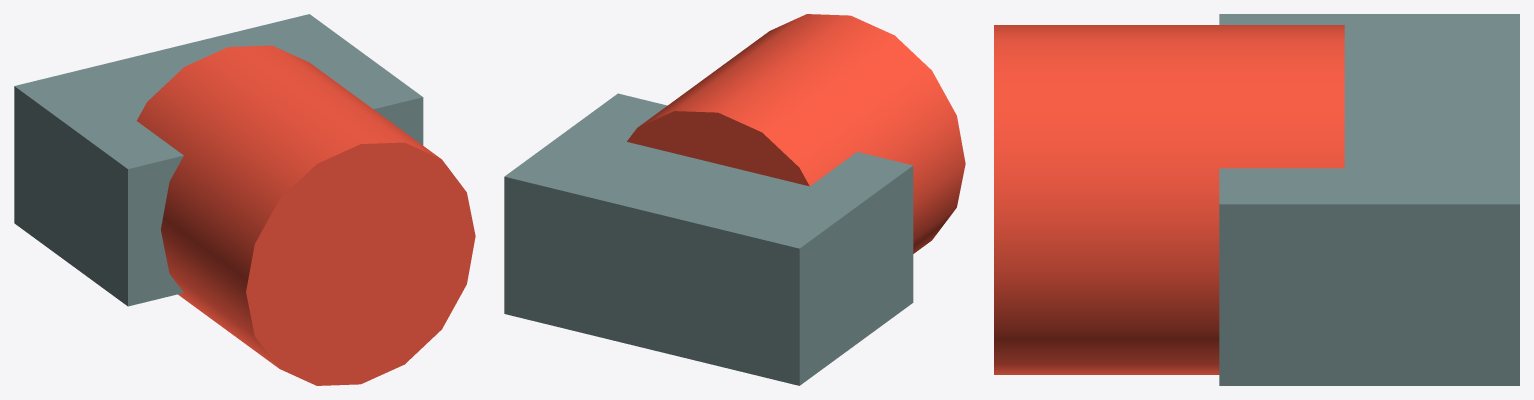
The model's file is emergency_beacon.glb.
3 views of the same model, side by side, from view 1: azimuth 30°, elevation 25°; view 2: azimuth 150°, elevation 25°; view 3: azimuth 270°, elevation 25° (orthographic). The views are drawn at different scales.
Visible parts, largest first — view 1: emergency_beacon; view 2: emergency_beacon; view 3: emergency_beacon.
Part boxes in pixels (<box>): emergency_beacon: <box>14,14,475,385</box>; emergency_beacon: <box>504,14,965,385</box>; emergency_beacon: <box>994,14,1519,385</box>.
Size of what is drawn, in the model's own units: 0.18 by 0.14 by 0.21.
